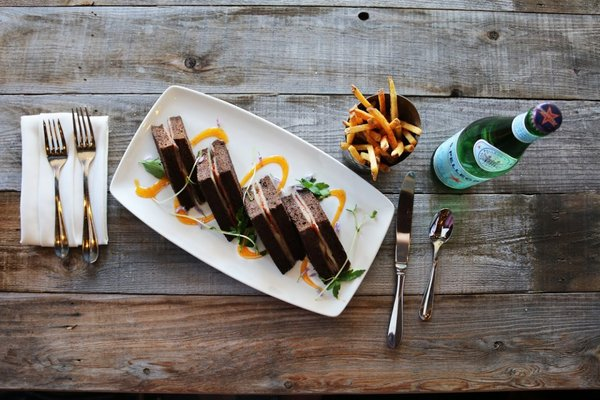burger: (44, 115, 77, 259), (71, 104, 99, 255)
sandwich: (388, 171, 415, 345), (20, 113, 51, 247), (44, 115, 72, 258), (420, 208, 454, 320)
soup: (240, 153, 307, 274)
